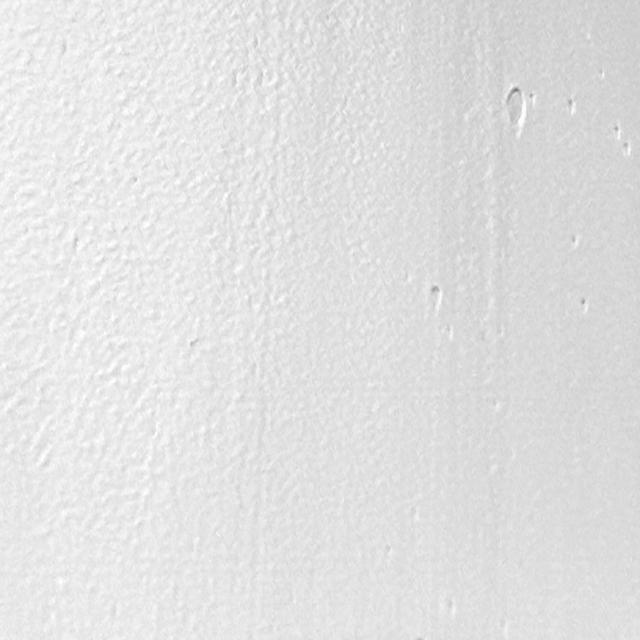pin holes: (499, 82, 532, 144), (424, 282, 444, 312), (441, 597, 460, 622), (381, 540, 399, 564), (575, 294, 593, 316), (186, 336, 203, 356), (566, 96, 579, 116), (570, 231, 582, 251), (621, 141, 633, 157), (613, 124, 625, 140), (596, 67, 606, 81)
